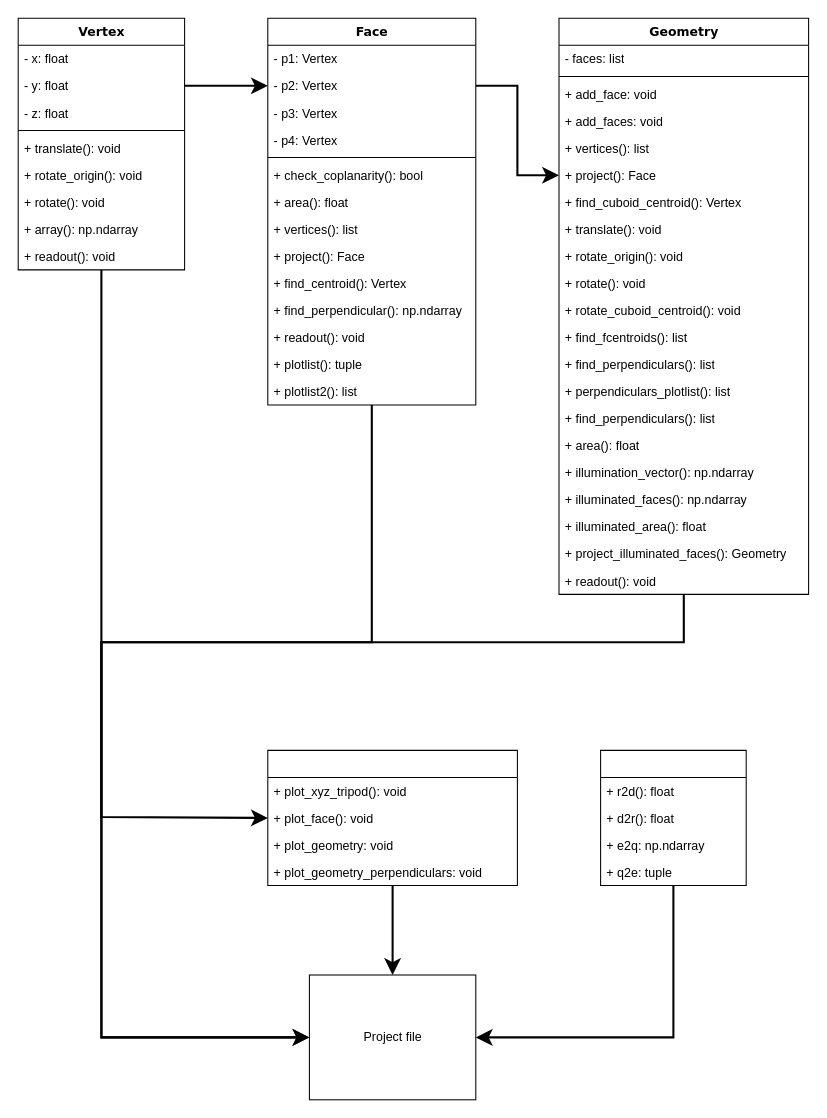
Image size: 827x1118. Some labels were removed from this diagram. The shapes that lost their labels are listed below. From the top down, each one's box as (x1, y1, x2, y2) in pixels, then its label:
(267, 749, 517, 886): cp_plotting.py
(600, 749, 746, 886): cp_utilities.py
